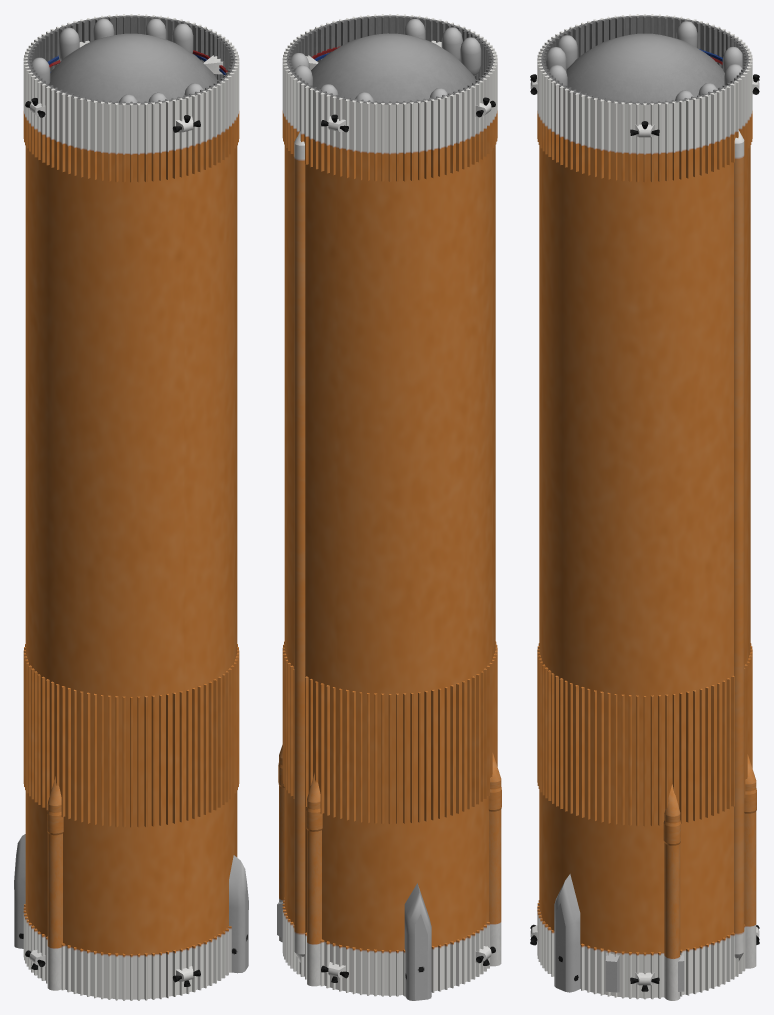
File: ksprocket.fbx
3 renders of one model, left to right at view 1: azimuth 30°, elevation 25°; view 2: azimuth 150°, elevation 25°; view 3: azimuth 270°, elevation 25°, orthographic.
Visible parts, largest first — view 1: tank.007, bits.004; view 2: tank.007, bits.004; view 3: tank.007, bits.004.
Boxes of the visible parts, x1,y1,x2,y2 form: tank.007: [23, 14, 239, 1000]; bits.004: [14, 15, 248, 990]; tank.007: [282, 14, 497, 996]; bits.004: [277, 15, 501, 1000]; tank.007: [537, 14, 752, 999]; bits.004: [530, 15, 759, 1000].
Size of the model in its own units: 913 by 3993 by 913.
